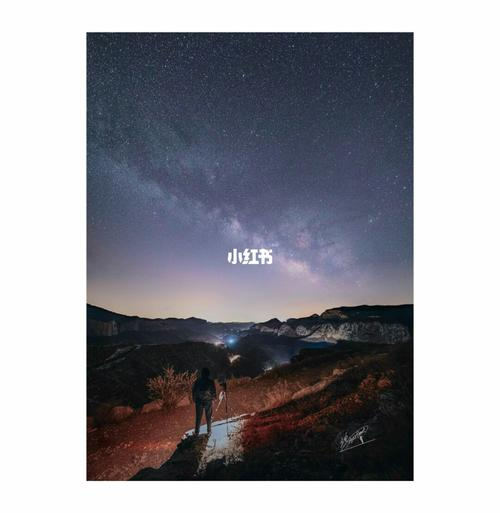mountain: (93, 305, 398, 433)
sky_cloud: (85, 66, 399, 303)
